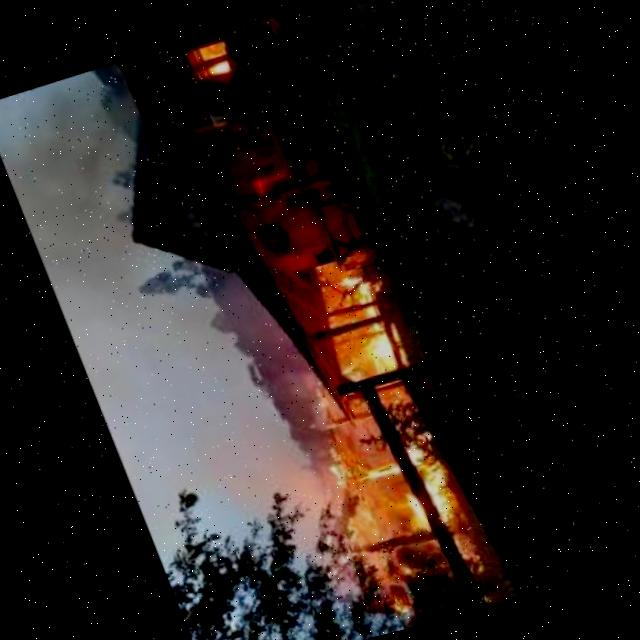fire: (325, 260, 404, 378), (391, 422, 453, 522), (344, 441, 393, 483), (390, 481, 422, 530), (313, 442, 343, 490), (198, 42, 230, 74), (328, 355, 358, 385)
